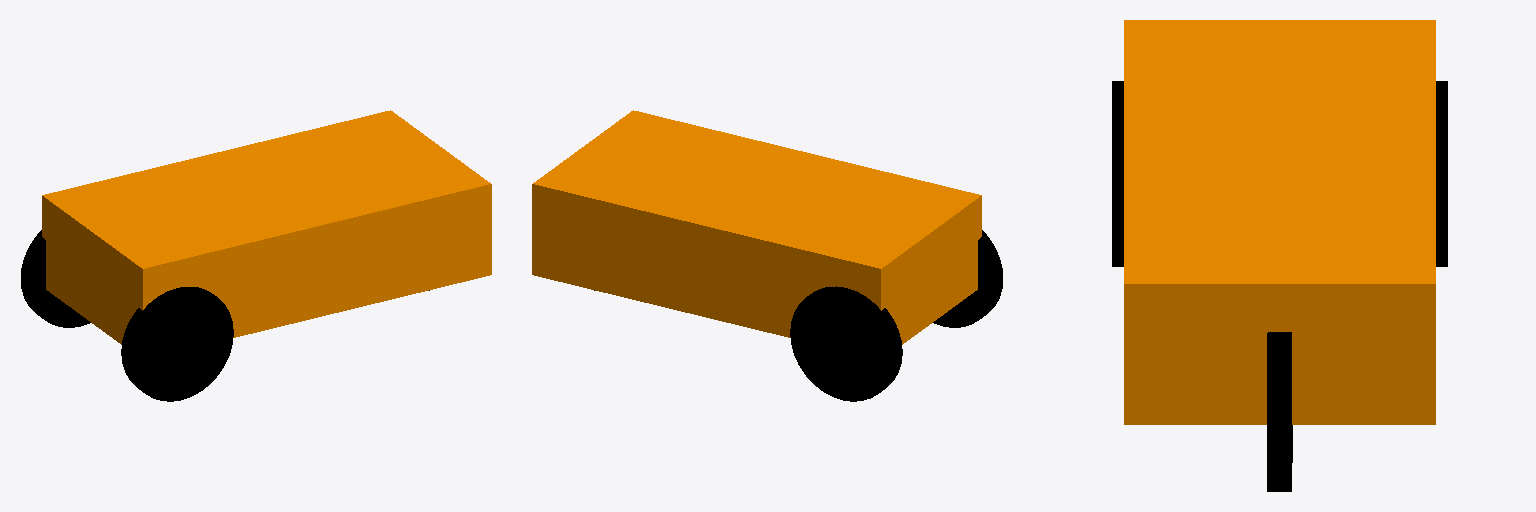
The robot description file, URDF, robot "tricycle_drive":
<?xml version="1.0"?>
<robot name="tricycle_drive" xmlns:xacro="http://ros.org/wiki/xacro">
  <material name="Black">
    <color rgba="0 0 0 1" />
  </material>
  <material name="Grey">
    <color rgba="0.8 0.8 0.8 1" />
  </material>
  <material name="Orange">
    <color rgba="1 0.6 0 1" />
  </material>
  <material name="White">
    <color rgba="1 1 1 1" />
  </material>

  <link name="base_link" />

  <!-- Chassis -->
  <link name="chassis">
    <collision>
      <origin xyz="0 0 0" rpy="0 0 0" />
      <geometry>
        <box size="2 1 0.5" />
      </geometry>
    </collision>

    <visual>
      <origin xyz="0 0 0" rpy="0 0 0" />
      <geometry>
        <box size="2 1 0.5" />
      </geometry>
      <material name="Orange" />
    </visual>

    <inertial>
      <origin xyz="0 0 0" rpy="0 0 0" />
      <mass value="1" />
      <inertia ixx="0.126164" ixy="0.0" ixz="0.0" iyy="0.416519" iyz="0.0" izz="0.481014" />
    </inertial>
  </link>

  <joint name="chassis_joint" type="fixed">
    <origin xyz="0.8 0 0.5" rpy="0 0 0" />
    <parent link="base_link" />
    <child link="chassis" />
  </joint>

  <!-- left wheel Link -->
  <link name="left_wheel">
    <collision>
      <geometry>
        <cylinder length="0.08" radius="0.3" />
      </geometry>
    </collision>
    <visual>
      <geometry>
        <cylinder length="0.08" radius="0.3" />
      </geometry>
      <material name="Black" />
    </visual>

    <inertial>
      <mass value="2" />
      <inertia ixx="0.145833" ixy="0.0" ixz="0.0" iyy="0.145833" iyz="0.0" izz="0.125" />
    </inertial>
  </link>

  <joint name="left_wheel_joint" type="continuous">
    <origin xyz="-0.8 0.5 -0.2" rpy="-1.57 0 0" />
    <parent link="chassis" />
    <child link="left_wheel" />
    <axis xyz="0 0 1" />
    <dynamics damping="0.2" />
  </joint>

  <!-- right wheel Link -->
  <link name="right_wheel">
    <collision>
      <geometry>
        <cylinder length="0.08" radius="0.3" />
      </geometry>
    </collision>
    <visual>
      <geometry>
        <cylinder length="0.08" radius="0.3" />
      </geometry>
      <material name="Black" />
    </visual>

    <inertial>
      <mass value="2" />
      <inertia ixx="0.145833" ixy="0.0" ixz="0.0" iyy="0.145833" iyz="0.0" izz="0.125" />
    </inertial>
  </link>

  <joint name="right_wheel_joint" type="continuous">
    <origin xyz="-0.8 -0.5 -0.2" rpy="-1.57 0 0" />
    <parent link="chassis" />
    <child link="right_wheel" />
    <axis xyz="0 0 1" />
    <dynamics damping="0.2" />
  </joint>

  <!-- Steering Link -->
  <link name="steering_link">
    <visual>
      <geometry>
        <box size="0.01 0.01 0.01" />
      </geometry>
      <material name="Black" />
    </visual>
    <inertial>
      <origin xyz="0 0 0" rpy="0 0 0" />
      <mass value="0.005" />
      <inertia ixx="0.1" ixy="0.0" ixz="0.0" iyy="0.1" iyz="0.0" izz="0.1" />
    </inertial>
  </link>

  <joint name="steering_joint" type="continuous">
    <origin xyz="0.9 0 -0.2" rpy="0 0 0" />
    <parent link="chassis" />
    <child link="steering_link" />
    <axis xyz="0 0 1" />
  </joint>

  <!-- traction wheel link -->
  <link name="wheel_front_link">
    <visual>
      <geometry>
        <cylinder length="0.08" radius="0.3" />
      </geometry>
      <material name="Black" />
    </visual>
    <inertial>
      <origin xyz="0 0 0" rpy="0 0 0" />
      <mass value="15" />
      <inertia ixx="1" ixy="0" ixz="0" iyy="1" iyz="0" izz="1" />
    </inertial>
    <collision>
      <geometry>
        <cylinder length="0.08" radius="0.3" />
      </geometry>
    </collision>
  </link>

  <joint name="traction_joint" type="continuous">
    <parent link="steering_link" />
    <child link="wheel_front_link" />
    <origin xyz="0 0 0" rpy="-1.57 1.57 0" />
    <axis xyz="0 0 1" />
  </joint>

  <ros2_control name="MicroRos2SystemHardware" type="system">
    <hardware>
      <plugin>microros_ros2_control/MicroRos2SystemHardware</plugin>
    </hardware>
    <joint name="steering_joint">
      <command_interface name="position" />
      <state_interface name="position" />
    </joint>
    <joint name="traction_joint">
      <command_interface name="velocity" />
      <state_interface name="velocity" />
      <state_interface name="position" />
    </joint>
  </ros2_control>


  <!-- <gazebo>
    <plugin filename="microros_ros2_control-system" name="microros_ros2_control::GazeboSimROS2ControlPlugin">
      <parameters>$(find microros_ros2_control_launch)/config/tricycle_drive_controller.yaml</parameters>
    </plugin>
  </gazebo> -->

</robot>

--- Render facts (derived) ---
3 views of the same robot in one strip: view 1: azimuth 30°, elevation 25°; view 2: azimuth 150°, elevation 25°; view 3: azimuth 270°, elevation 25° (orthographic).
Robot: tricycle_drive — 6 links, 5 joints (4 continuous, 1 fixed); root link base_link; default pose: all joints at 0.
Visible links, largest first — view 1: chassis, right_wheel, left_wheel; view 2: chassis, left_wheel, right_wheel; view 3: chassis, wheel_front_link, left_wheel, right_wheel.
Boxes of the visible links, box(x1,y1,x2,y2) form: chassis: box(42, 110, 491, 344); right_wheel: box(121, 287, 233, 401); left_wheel: box(21, 230, 90, 327); chassis: box(532, 110, 981, 344); left_wheel: box(790, 286, 902, 401); right_wheel: box(933, 230, 1002, 327); chassis: box(1124, 20, 1435, 424); wheel_front_link: box(1267, 332, 1292, 491); left_wheel: box(1436, 81, 1447, 266); right_wheel: box(1112, 81, 1123, 266).
Size in the robot's own frame: 2.3 by 1.08 by 0.75 metres.
Geometry: primitives only (box / cylinder / sphere), no mesh files.
